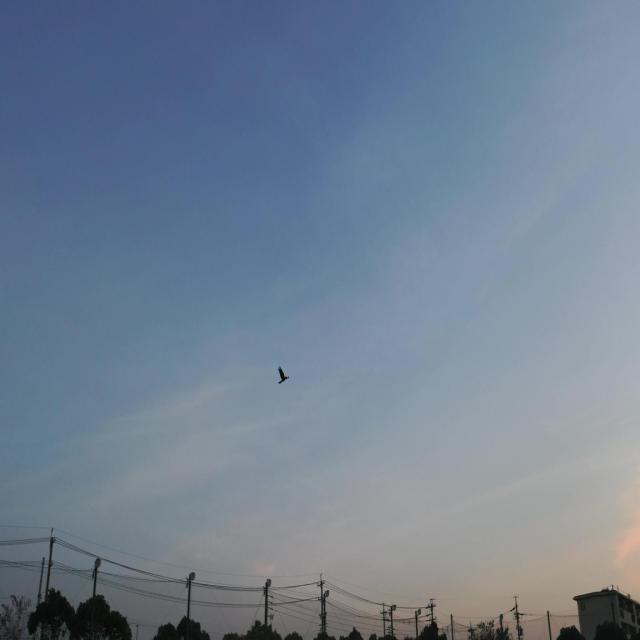Birds: (276, 365, 292, 387)
